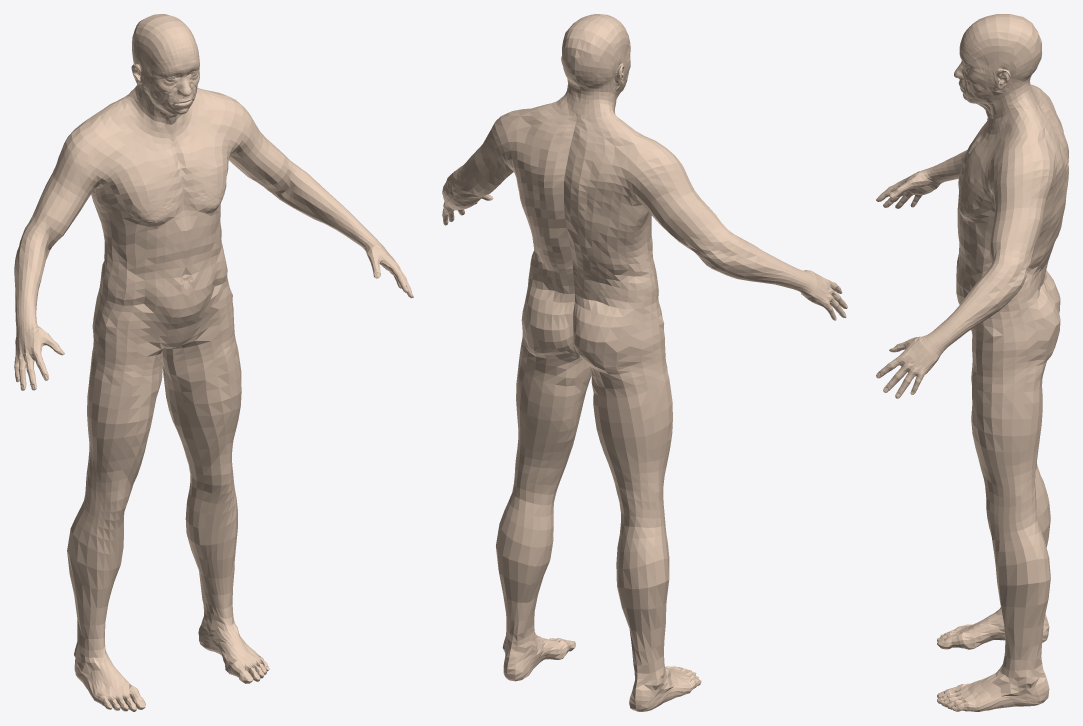
Rendered from male-older-heavy-high.glb.
3 renders of one model, left to right at view 1: azimuth 30°, elevation 25°; view 2: azimuth 150°, elevation 25°; view 3: azimuth 270°, elevation 25°, orthographic.
Parts seen in each view (by area): view 1: world; view 2: world; view 3: world.
Part boxes in pixels (left/top/right/bottom): world: left=14, top=14, right=413, bottom=711; world: left=442, top=14, right=847, bottom=711; world: left=876, top=14, right=1068, bottom=711.
Size of the model in its own units: 1.25 by 2 by 0.5316.
